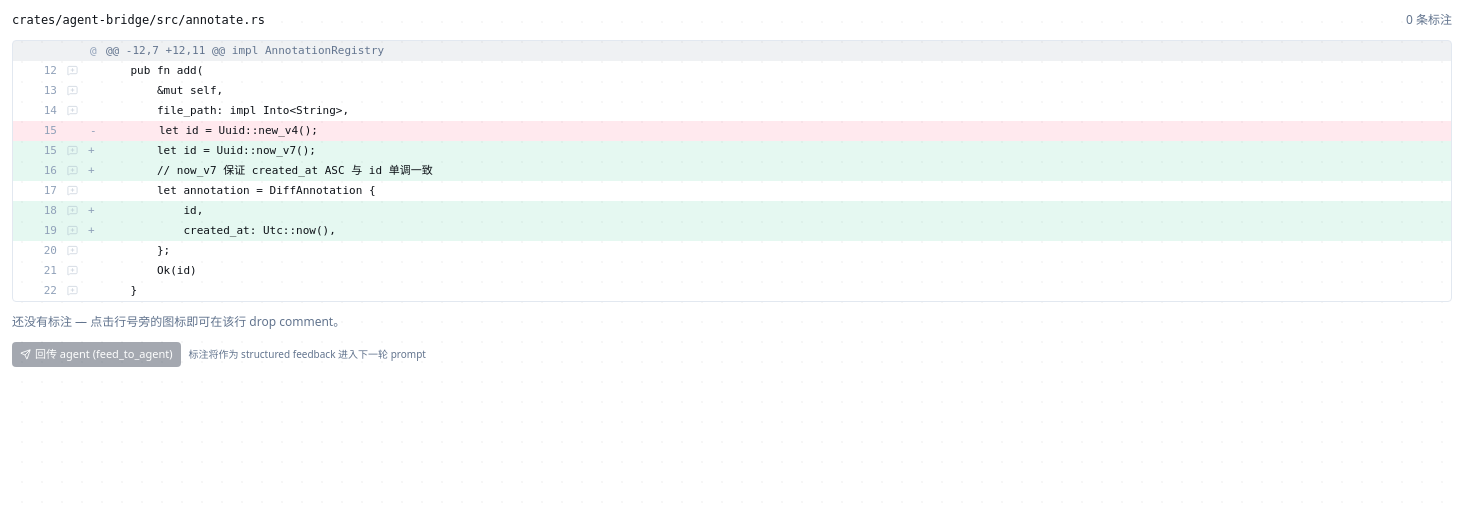
Test: DiffAnnotator › shift+点击扩选 → 半开区间覆盖整段, 每行都打角标
The image size is (1464, 519).
Expected: the text "还没有标注 — 点击行号旁的图标即可在该行 drop comment。" is shown, [12,313,345,330]
Click the button with test id "annotation-gutter-15": (72, 150) [65,143,80,158]
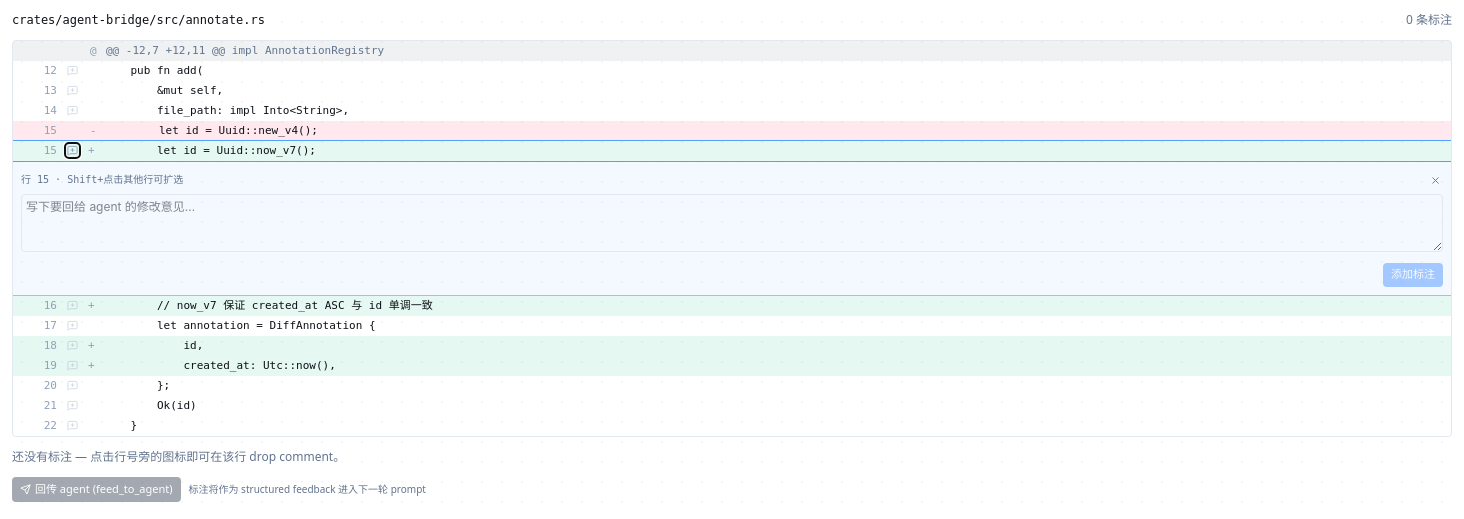
Type keys "{Shift>}"
Click the button with test id "annotation-gutter-17": (72, 326) [65,318,80,333]
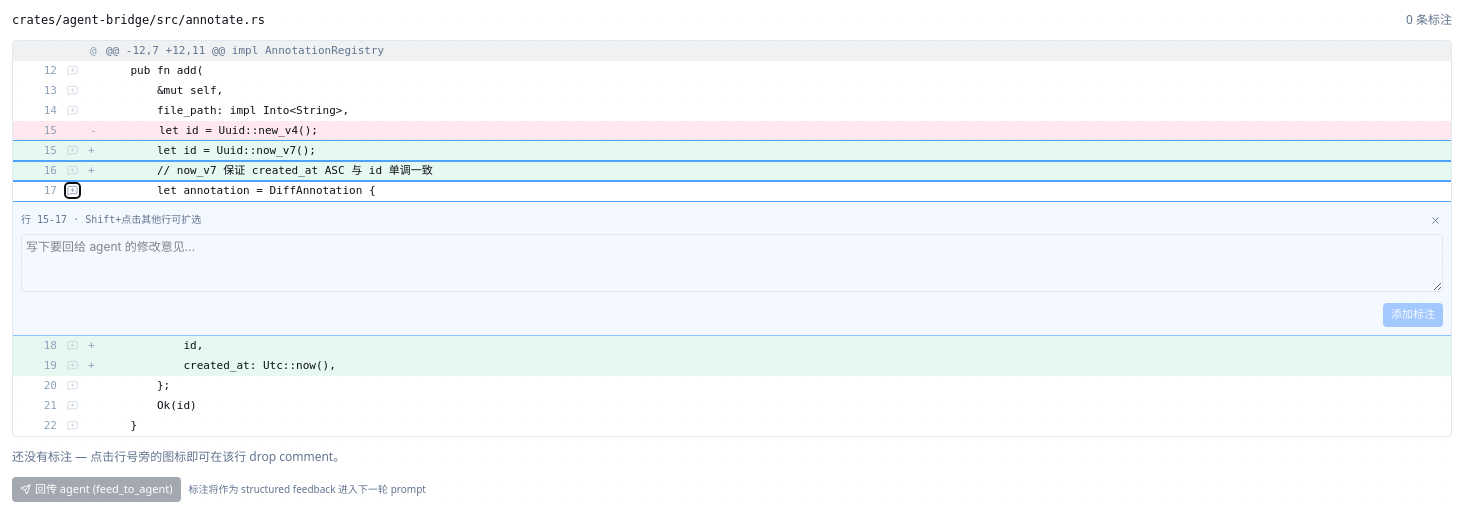
Type keys "{/Shift}"
Expected: the text with test id "composer-range" shows "行 15-17", [21,214,201,225]
In the text box with test id "annotation-body-input": (732, 263) [21,234,1443,292], type "这三行合并成一个 helper"
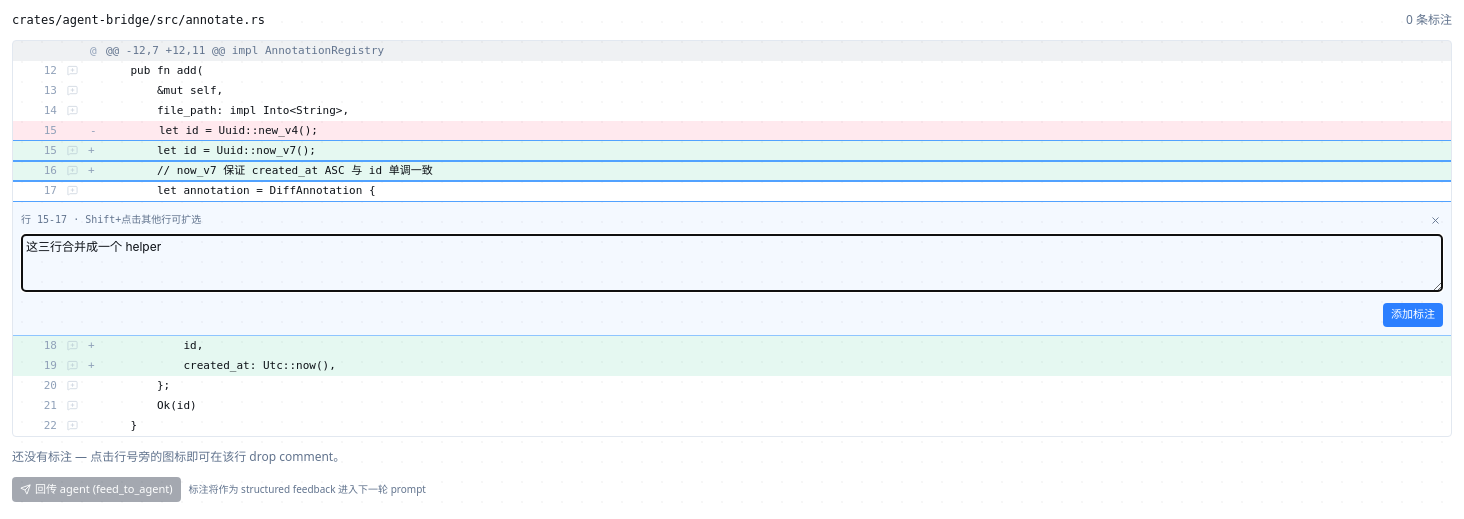
Click the button with test id "annotation-submit": (1413, 315) [1383,303,1443,327]
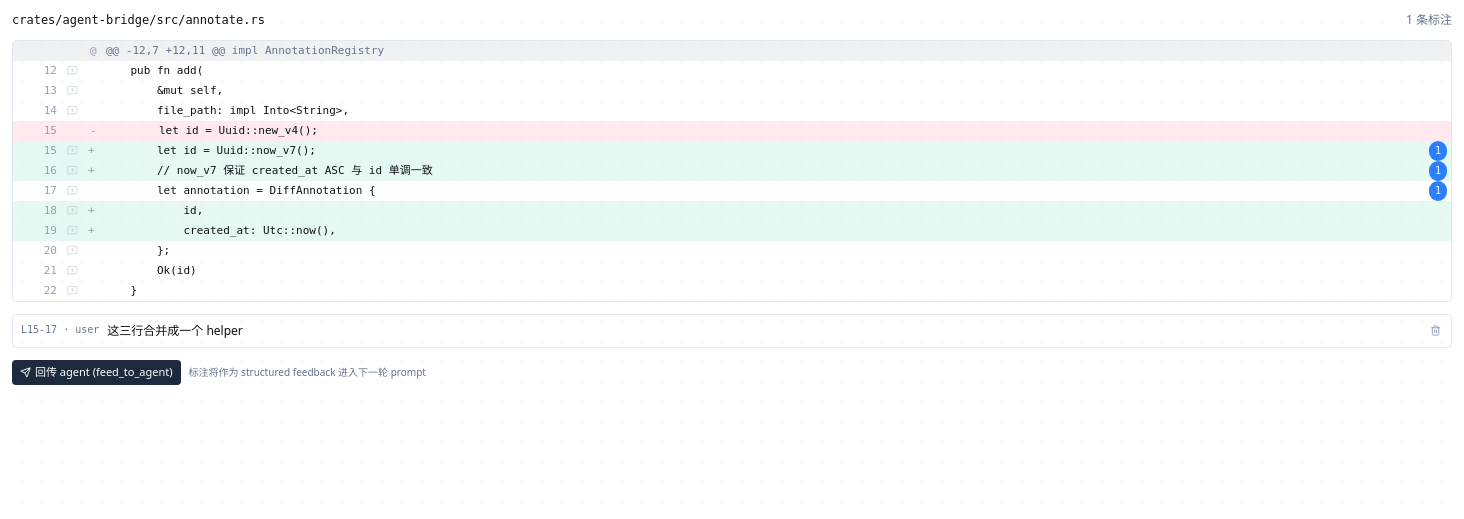
Expected: the element with test id "annotation-item" shows "L15-17", [12,314,1452,348]
Expected: the text with test id "annotation-marker-15" is shown, [1429,141,1447,161]
